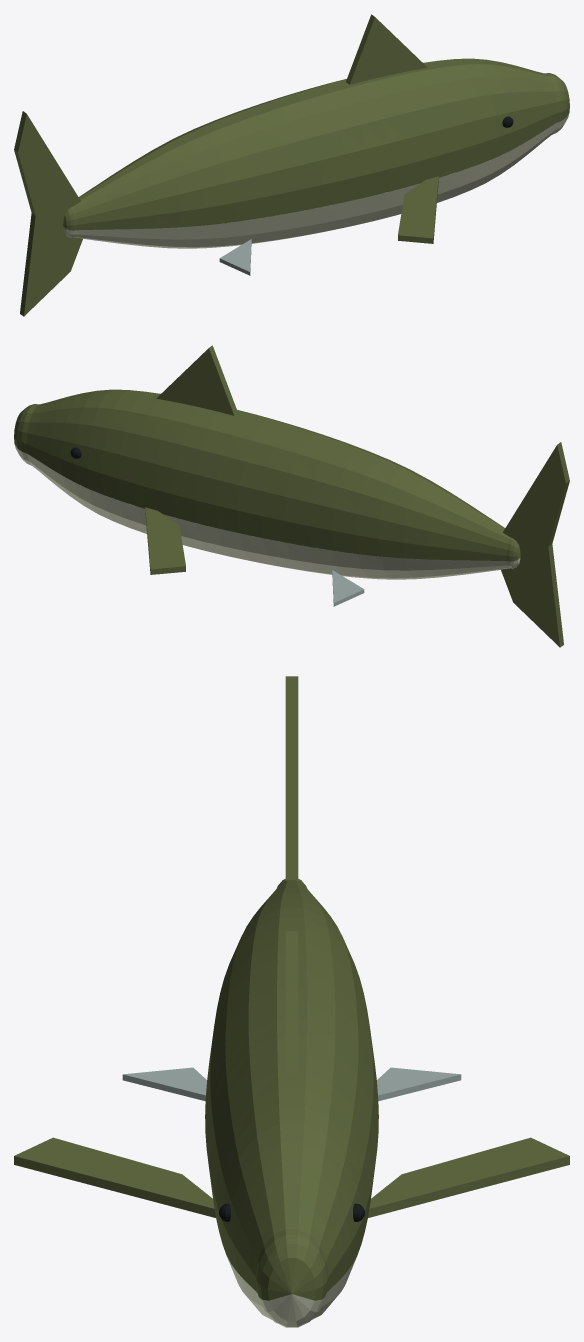
Rendered from mahi-mahi.dae.
The picture shows the model from 3 angles, top to bottom: view 1: azimuth 30°, elevation 25°; view 2: azimuth 150°, elevation 25°; view 3: azimuth 270°, elevation 25°; orthographic projection. The views are drawn at different scales.
Visible parts, largest first — view 1: part3-node, part2-node, part0-node; view 2: part3-node, part2-node, part0-node; view 3: part3-node, part0-node, part2-node.
Part boxes in pixels (box(x1,y1,x2,y2)): part3-node: box(14, 14, 569, 316); part2-node: box(63, 113, 569, 248); part0-node: box(219, 239, 251, 275); part3-node: box(14, 345, 569, 647); part2-node: box(14, 444, 520, 579); part0-node: box(332, 570, 364, 606); part3-node: box(14, 676, 569, 1300); part0-node: box(122, 1067, 461, 1101); part2-node: box(227, 1257, 356, 1327).
Size of the model in its own units: 1.3 by 0.7063 by 0.4814.
